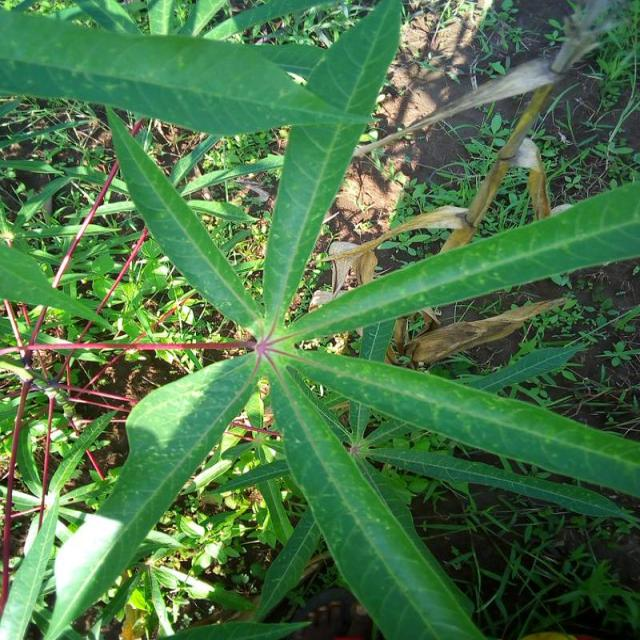cassava leaf: (3, 1, 638, 638), (41, 349, 262, 638)
